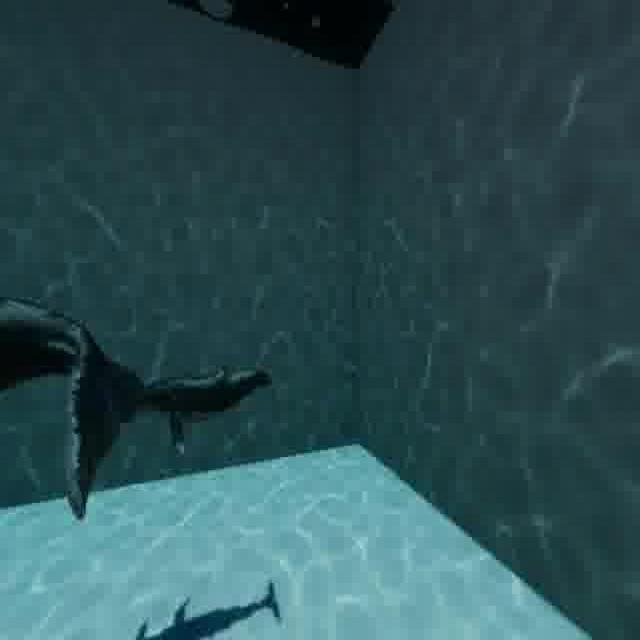Whale: (2, 274, 292, 538)
